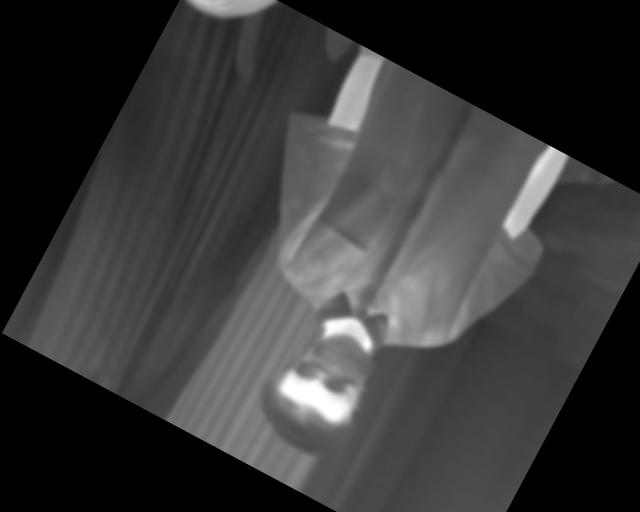face: (242, 308, 393, 470)
